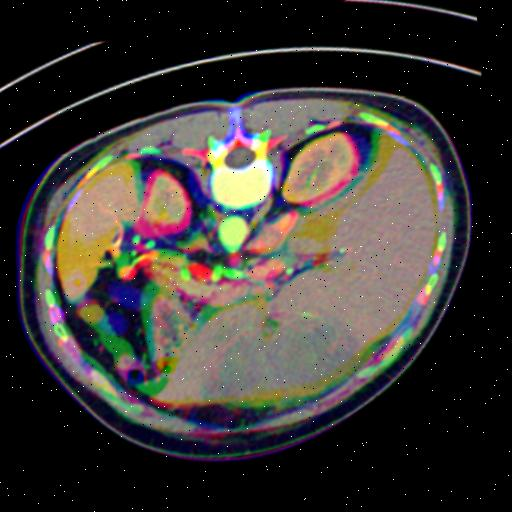Abscess: (212, 319, 362, 399)
